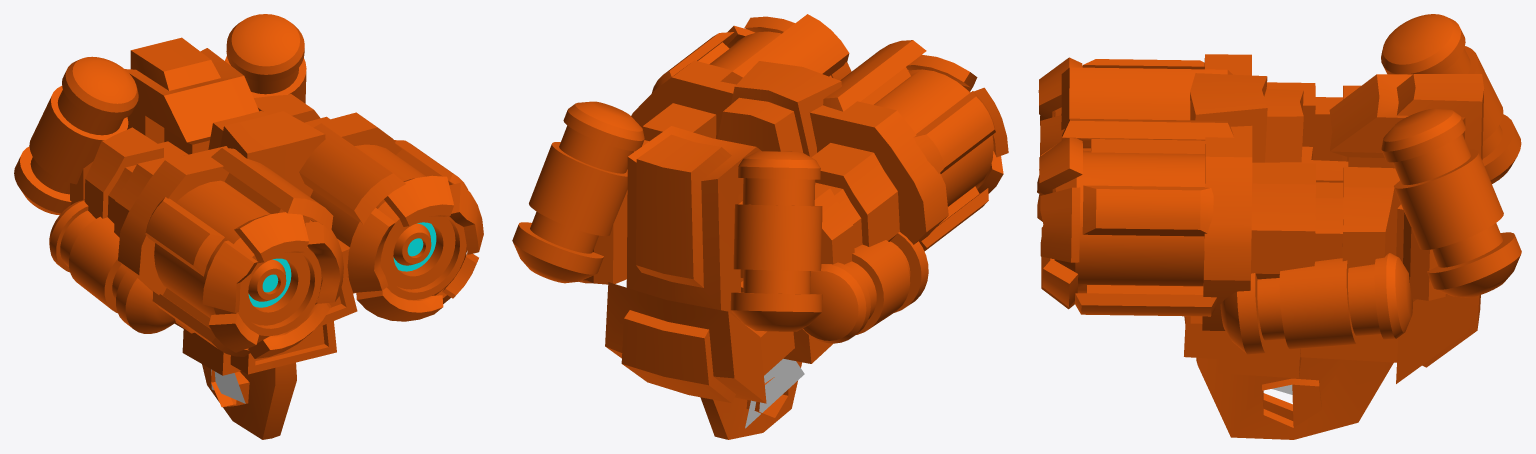
Rendered from head.fbx.
3 views of the same model, side by side, from view 1: azimuth 30°, elevation 25°; view 2: azimuth 150°, elevation 25°; view 3: azimuth 270°, elevation 25° (orthographic). The views are drawn at different scales.
Visible parts, largest first — view 1: Cylinder.001; view 2: Cylinder.001; view 3: Cylinder.001.
Part boxes in pixels (x1=…): Cylinder.001: x1=14, y1=14, x2=483, y2=439; Cylinder.001: x1=512, y1=14, x2=1008, y2=439; Cylinder.001: x1=1037, y1=14, x2=1521, y2=439.
Bounding box in the file's own units: 78.85 × 83.63 × 100.
